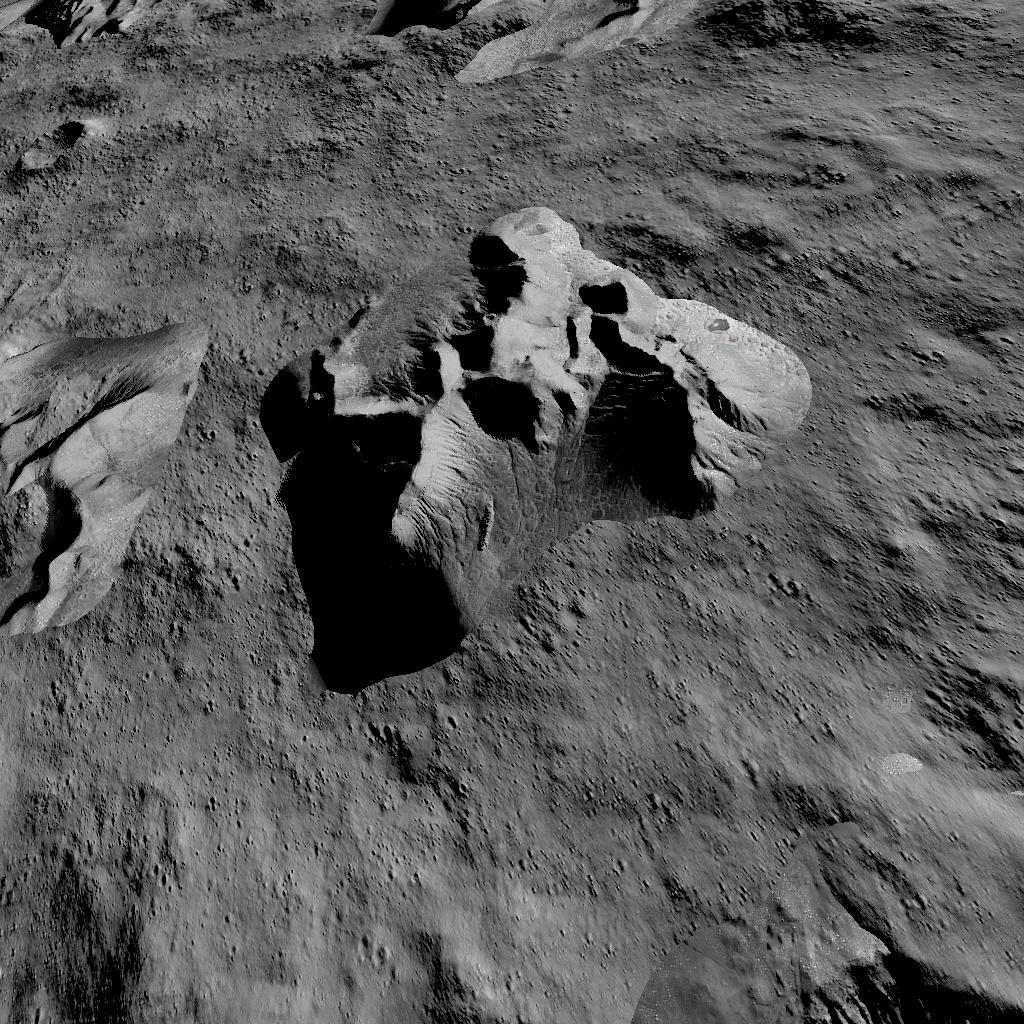Boulders: (269, 200, 817, 687), (3, 286, 206, 664), (364, 0, 694, 82), (709, 0, 1024, 53), (7, 0, 283, 53)
Crater: (733, 920, 1024, 1024), (937, 646, 1024, 774), (0, 104, 96, 188), (65, 991, 139, 1024)
Plan surface: (236, 710, 714, 1024), (837, 210, 1024, 630), (2, 682, 220, 978), (398, 92, 1024, 182), (734, 712, 918, 893), (128, 72, 352, 189)
